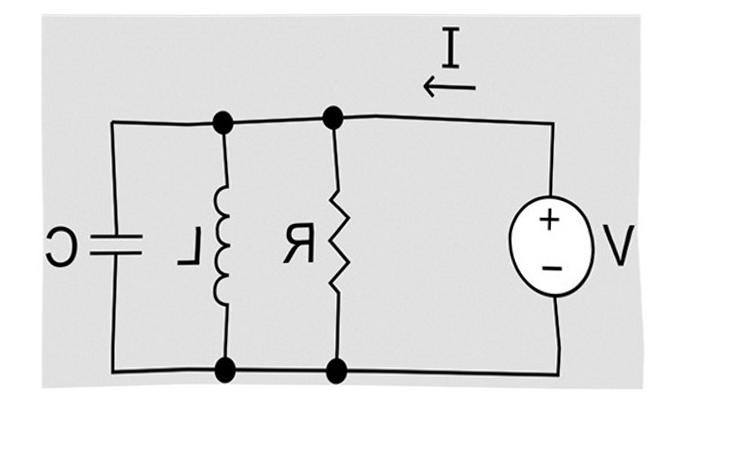Battery: (489, 177, 605, 303)
